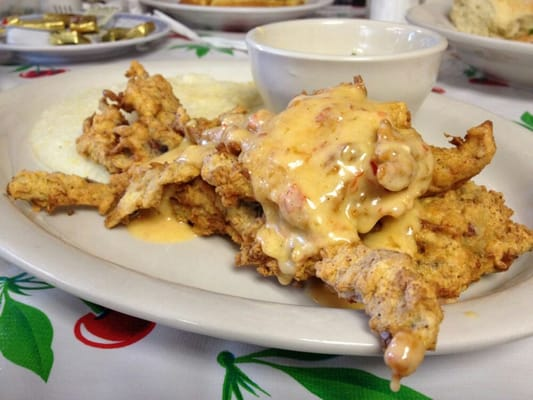sushi: (245, 19, 449, 115), (405, 0, 533, 88), (0, 6, 173, 66), (140, 0, 346, 34)
